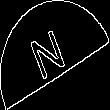N_SE: (33, 23, 77, 87)
